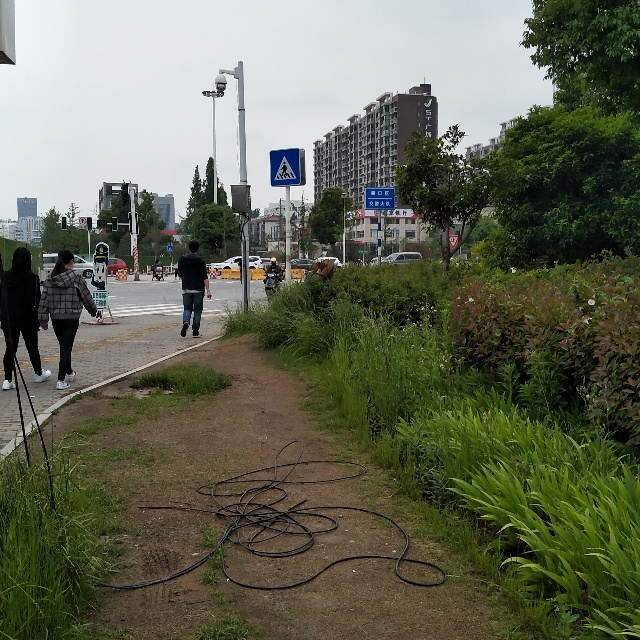crosswalk: (272, 146, 301, 188)
